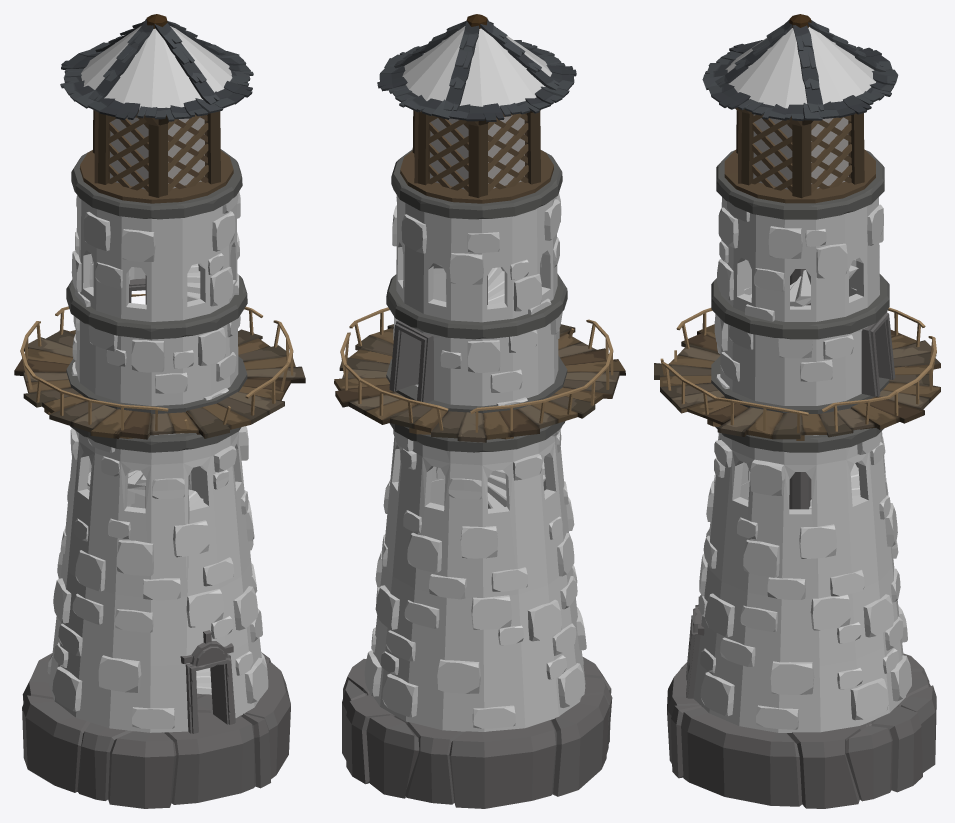
Rendered from SM_Bld_Lighthouse_01.fbx.
3 views of the same model, side by side, from view 1: azimuth 30°, elevation 25°; view 2: azimuth 150°, elevation 25°; view 3: azimuth 270°, elevation 25° (orthographic).
Parts seen in each view (by area): view 1: SM_Bld_Lighthouse_01; view 2: SM_Bld_Lighthouse_01; view 3: SM_Bld_Lighthouse_01.
Boxes of the visible parts, x1=… form: SM_Bld_Lighthouse_01: x1=14, y1=14, x2=305, y2=808; SM_Bld_Lighthouse_01: x1=334, y1=14, x2=625, y2=808; SM_Bld_Lighthouse_01: x1=654, y1=14, x2=940, y2=808.
Size of the model in its own units: 868 by 2510 by 879.
